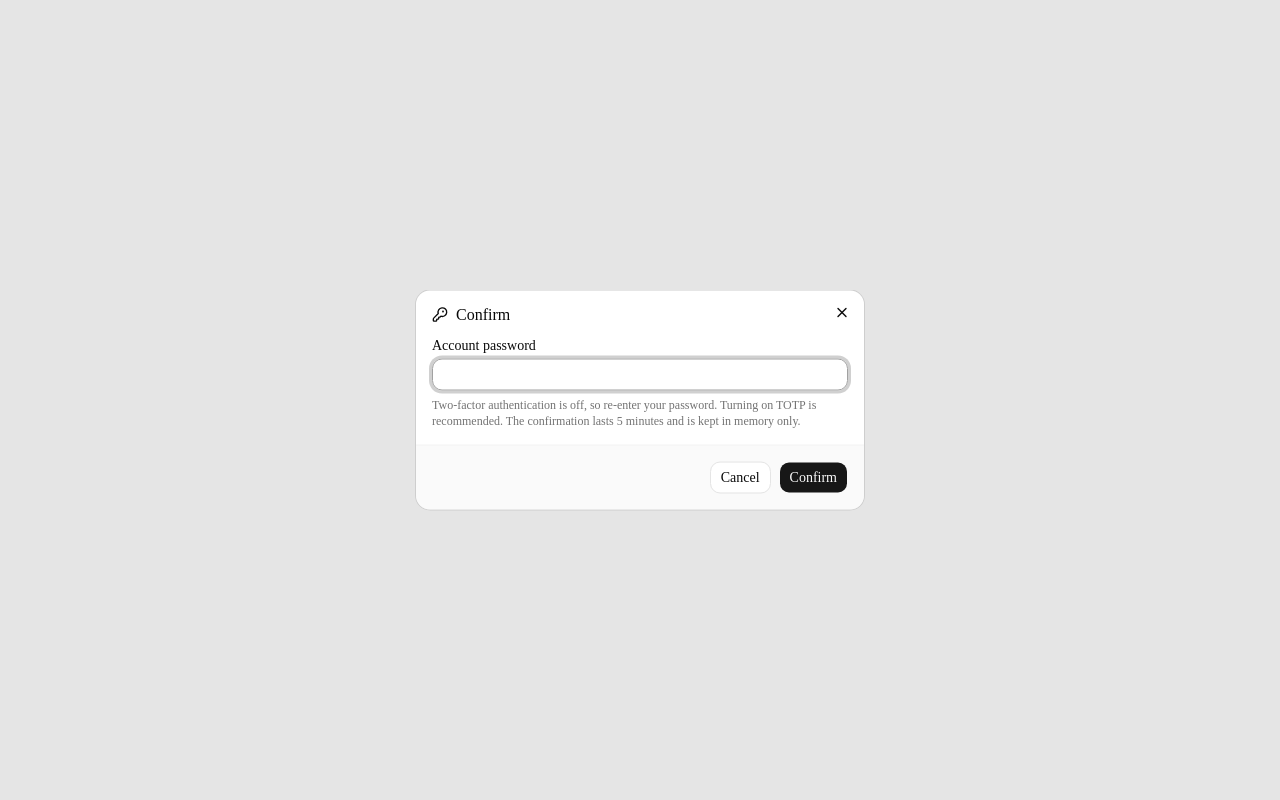
it: StepUpDialog › asks for the password when TOTP is not enabled and passes the token on (memory only)
This screenshot has width=1280, height=800.
Later steps or results of the test are not shown.
Expected: the text "Two-factor authentication is off" is shown, left=432, top=398, right=816, bottom=428
Click the button "Confirm" at (813, 478), box left=778, top=462, right=848, bottom=494
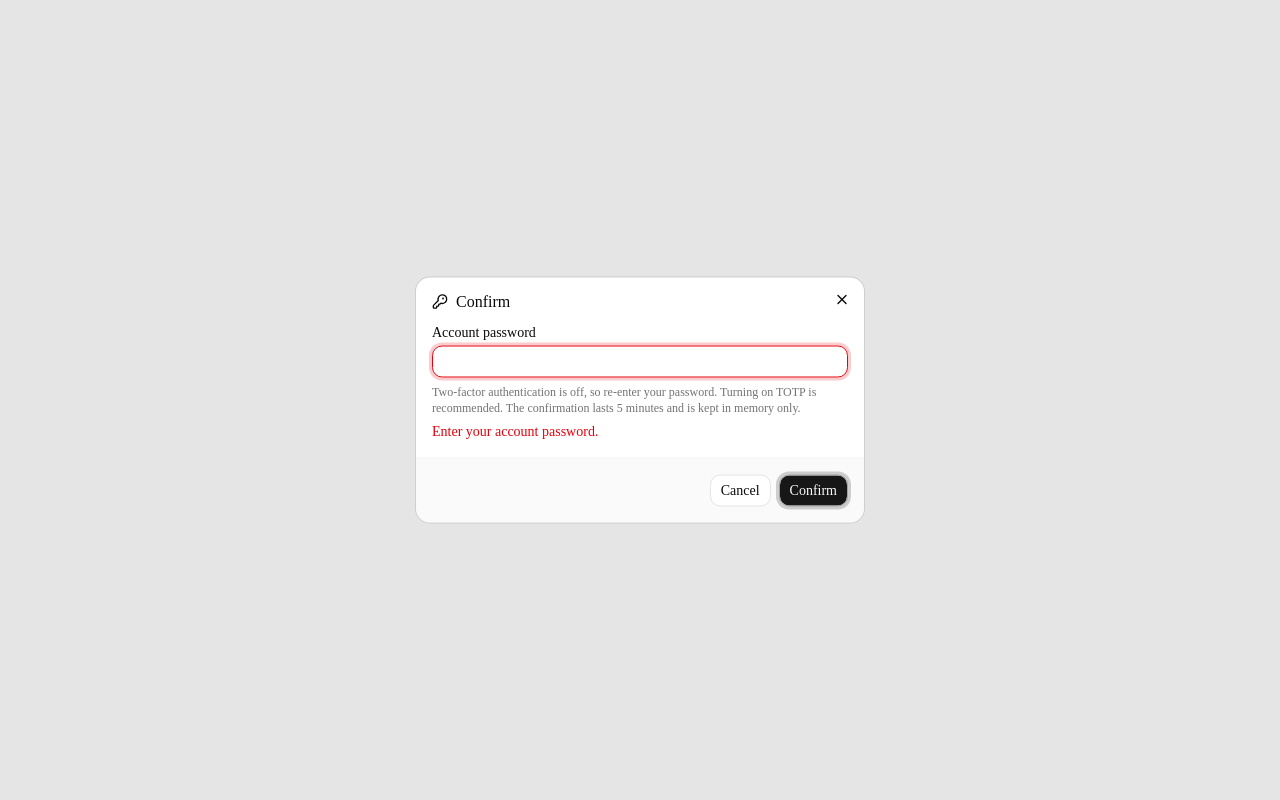
Result: the message shows "Enter your account password" at left=432, top=424, right=598, bottom=438
